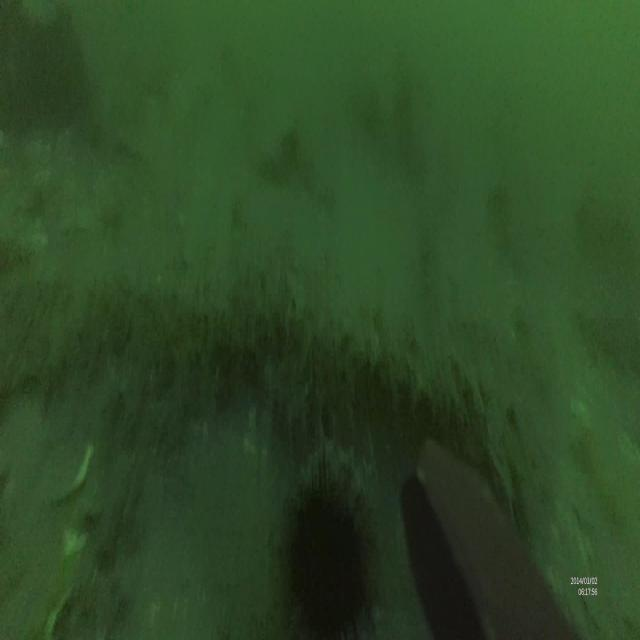echinus: (277, 455, 376, 640)
